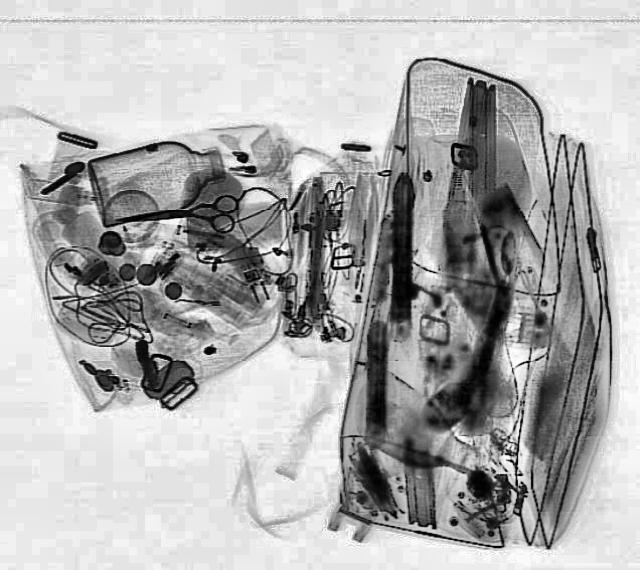Scissors: (111, 194, 239, 238)
